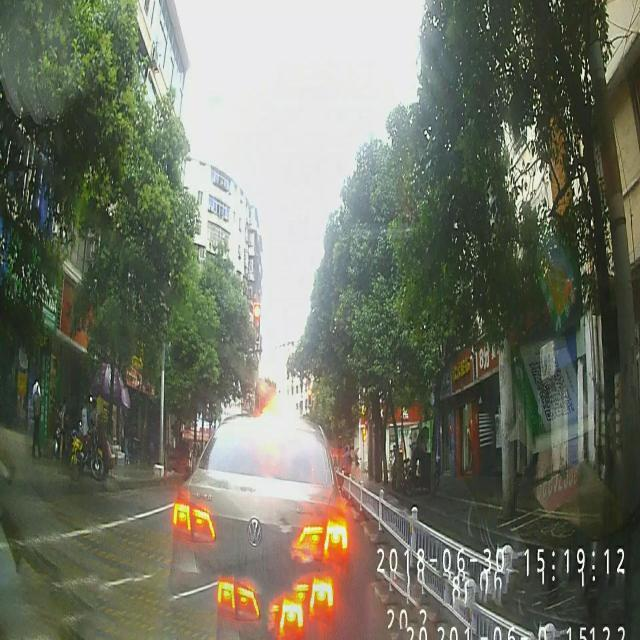car: (168, 411, 350, 616)
